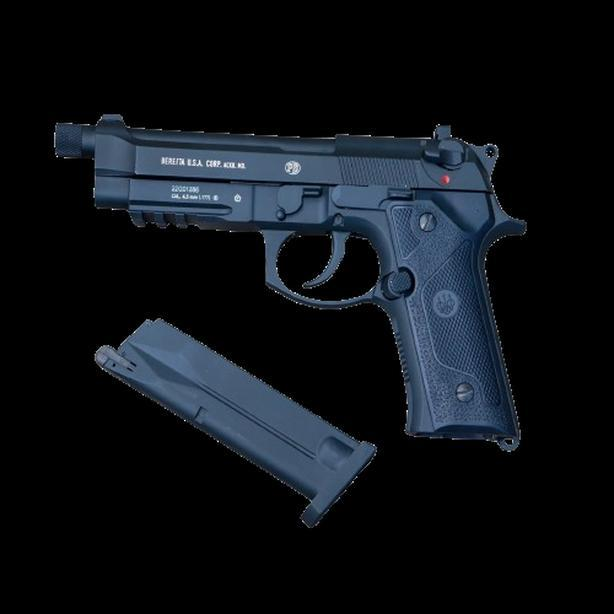Firearm: (29, 88, 558, 534)
